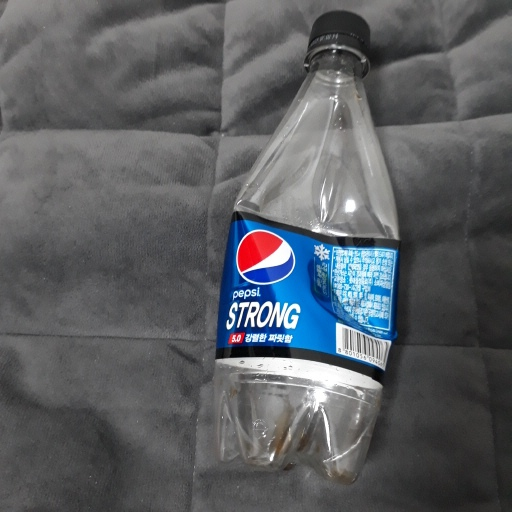Plastic_0: (207, 8, 399, 485)
